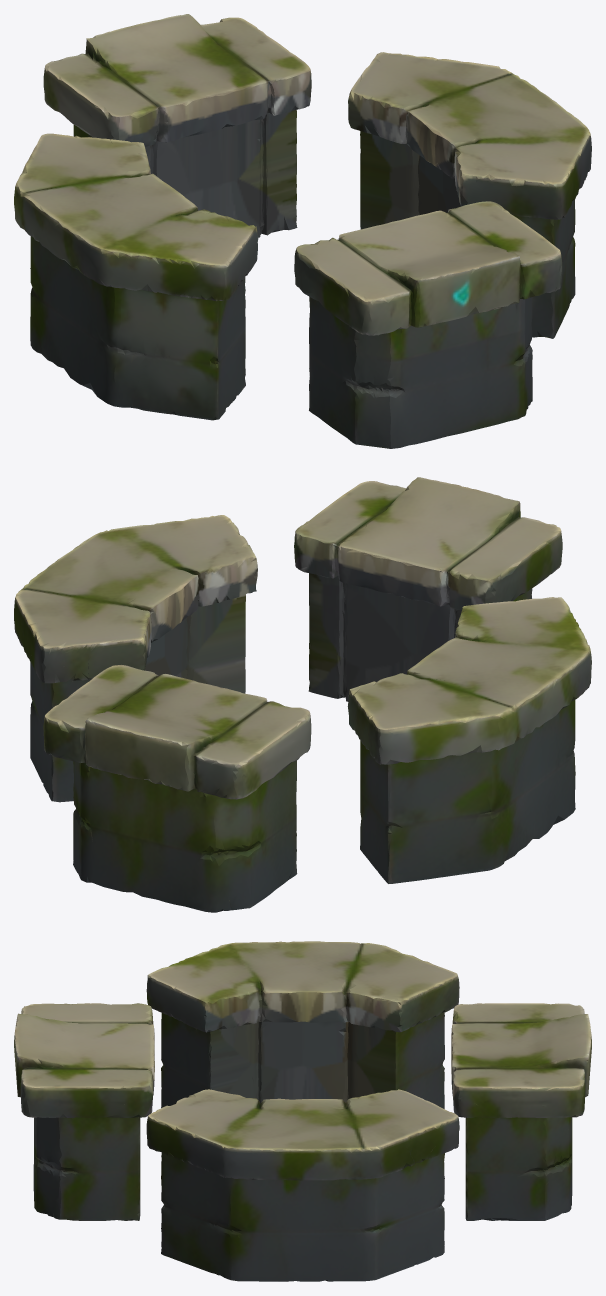
Rendered from rodin_Lab_RingRuin_raw.glb.
The picture shows the model from 3 angles, top to bottom: view 1: azimuth 30°, elevation 25°; view 2: azimuth 150°, elevation 25°; view 3: azimuth 270°, elevation 25°; orthographic projection. The views are drawn at different scales.
Parts seen in each view (by area): view 1: model; view 2: model; view 3: model.
Boxes of the visible parts, <box> form: model: <box>14,14,591,448</box>; model: <box>14,477,591,912</box>; model: <box>14,941,591,1281</box>.
Size of the model in its own units: 1.62 by 0.5366 by 1.89.
1 material, 1 textured.
